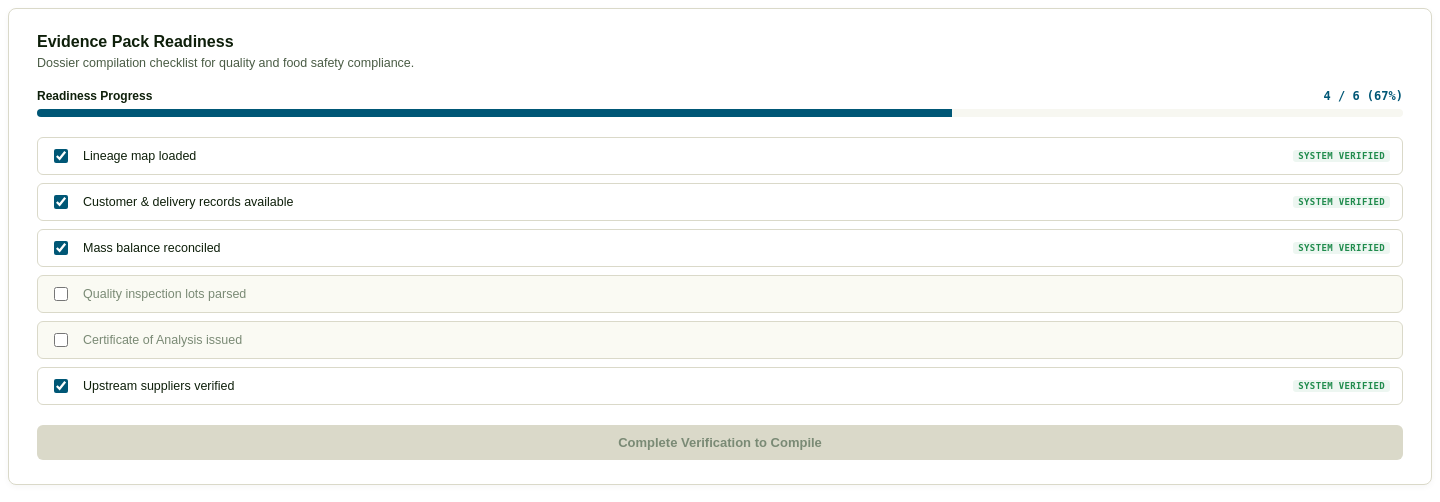
EvidencePackReadiness › allows manual toggling of incomplete items
Click the text "Quality inspection lots parsed". click: click(165, 294)
box: 83,286 -> 246,300
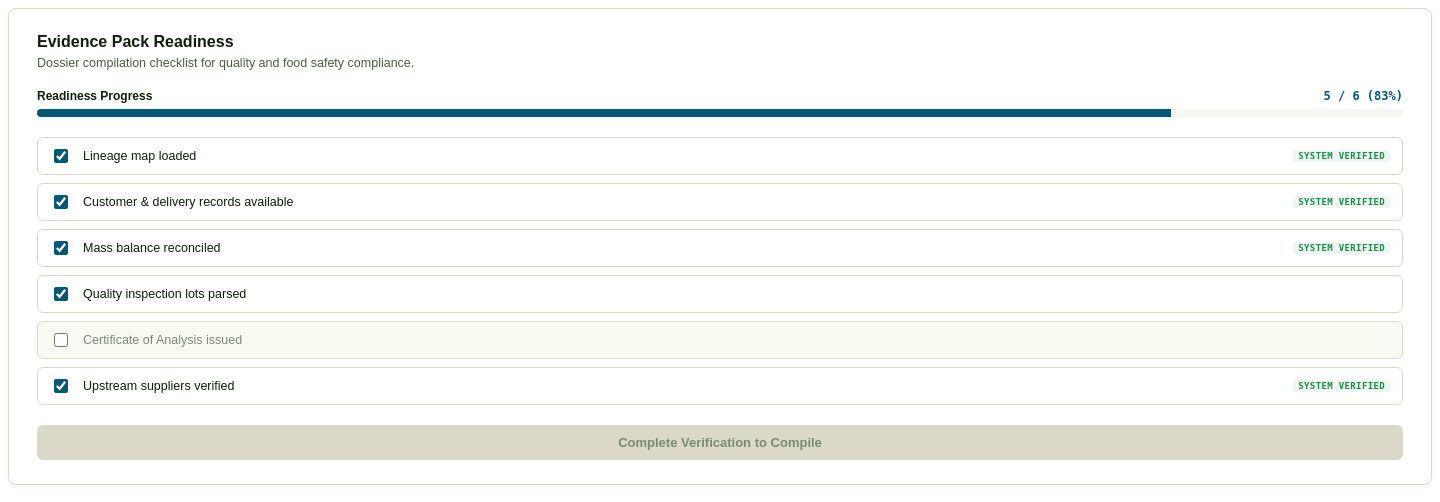
Check: the text "5 / 6 (83%)" is shown, box 1324,88 -> 1403,102
